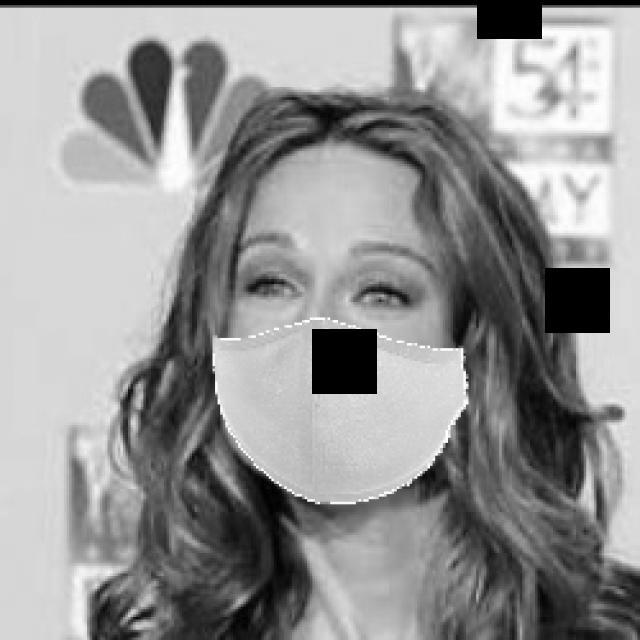cloth: (190, 135, 474, 508)
